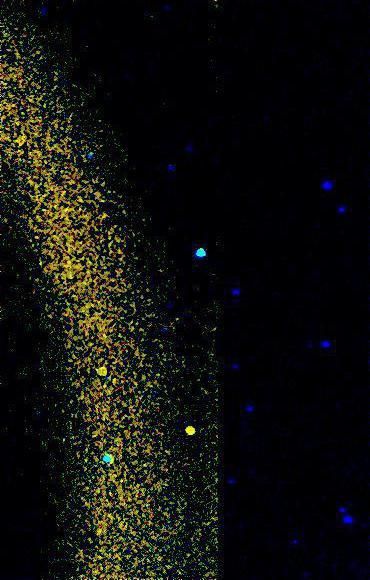star: (85, 356, 115, 386)
